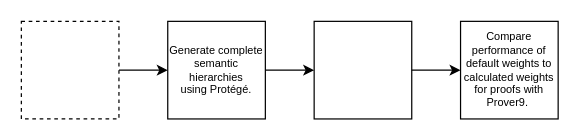
Image size: 580x140. Some labels were removed from this diagram. Here are the shapes that lost their labels. From the top down, the centre of each, then its label:
the point at 69,69: Convert ontologies in Common Logic format to OWL format.
the point at 362,69: Calculate predicate weights based on the semantic hierarchies.
